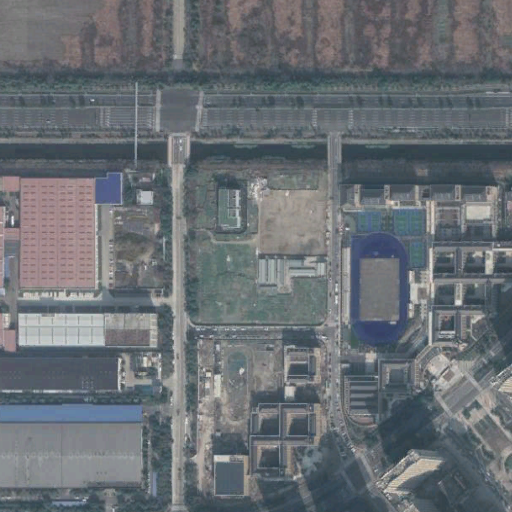cw: (185, 166, 330, 329)
